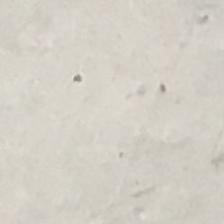Non_Crack: (19, 31, 191, 200)
